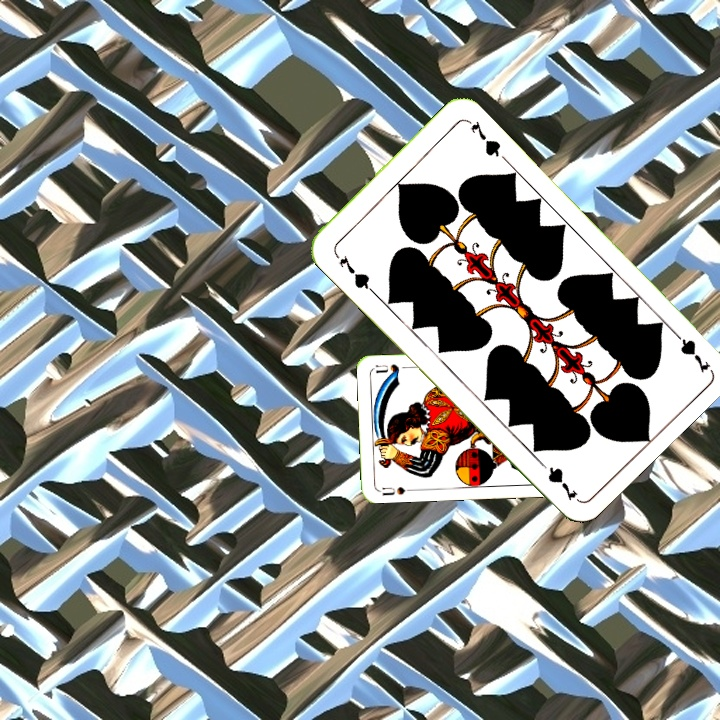G7: (666, 324, 713, 375), (334, 251, 375, 294)
SU: (378, 483, 416, 498)
